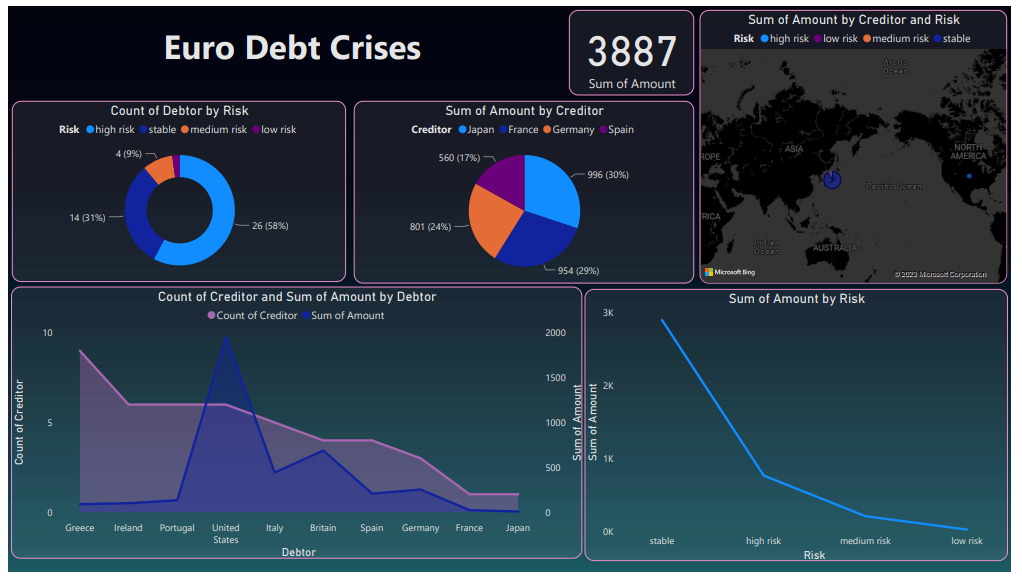

This screenshot's page, from the dashboard's own definition file:
{"tool":"powerbi","page":{"name":"Page 1","canvas":[1280,720],"ordinal":0},"visuals":[{"type":"areaChart","fields":{"Y":["CountNonNull(P6-EuroDebtCrisis.Creditor)"],"Category":["P6-EuroDebtCrisis.Debtor"],"Y2":["Sum(P6-EuroDebtCrisis.Amount)"]},"box":[2.9,357.1,730,347.1],"z":0},{"type":"map","fields":{"Series":["P6-EuroDebtCrisis.Risk"],"Size":["Sum(P6-EuroDebtCrisis.Amount)"],"Category":["P6-EuroDebtCrisis.Creditor"]},"box":[885.7,4.3,387.1,348.6],"z":1000},{"type":"donutChart","fields":{"Category":["P6-EuroDebtCrisis.Risk"],"Y":["CountNonNull(P6-EuroDebtCrisis.Debtor)"]},"box":[4.3,120,427.1,231.4],"z":1001},{"type":"lineChart","fields":{"Category":["P6-EuroDebtCrisis.Risk"],"Y":["Sum(P6-EuroDebtCrisis.Amount)"]},"box":[737.1,360,541.4,347.1],"z":1002},{"type":"card","fields":{"Values":["Sum(P6-EuroDebtCrisis.Amount)"]},"box":[715.7,4.3,160,108.6],"z":1003},{"type":"pieChart","fields":{"Y":["Sum(P6-EuroDebtCrisis.Amount)"],"Category":["P6-EuroDebtCrisis.Creditor"]},"box":[441.4,120,434.3,232.9],"z":1004},{"type":"textbox","box":[25.7,18.6,672.9,94.3],"z":1005}]}

Visuals, with their boxes in screenshot pixels (x1, y1, x2, y2), scaled from the page's 1280x720 canvas onto the 1022x585 screenshot:
areaChart - CountNonNull(P6-EuroDebtCrisis.Creditor) x P6-EuroDebtCrisis.Debtor: <bbox>2, 290, 585, 572</bbox>
map - P6-EuroDebtCrisis.Risk x Sum(P6-EuroDebtCrisis.Amount): <bbox>707, 3, 1016, 287</bbox>
donutChart - P6-EuroDebtCrisis.Risk x CountNonNull(P6-EuroDebtCrisis.Debtor): <bbox>3, 98, 344, 286</bbox>
lineChart - P6-EuroDebtCrisis.Risk x Sum(P6-EuroDebtCrisis.Amount): <bbox>589, 292, 1021, 575</bbox>
card - Sum(P6-EuroDebtCrisis.Amount): <bbox>571, 3, 699, 92</bbox>
pieChart - Sum(P6-EuroDebtCrisis.Amount) x P6-EuroDebtCrisis.Creditor: <bbox>352, 98, 699, 287</bbox>
textbox: <bbox>21, 15, 558, 92</bbox>
